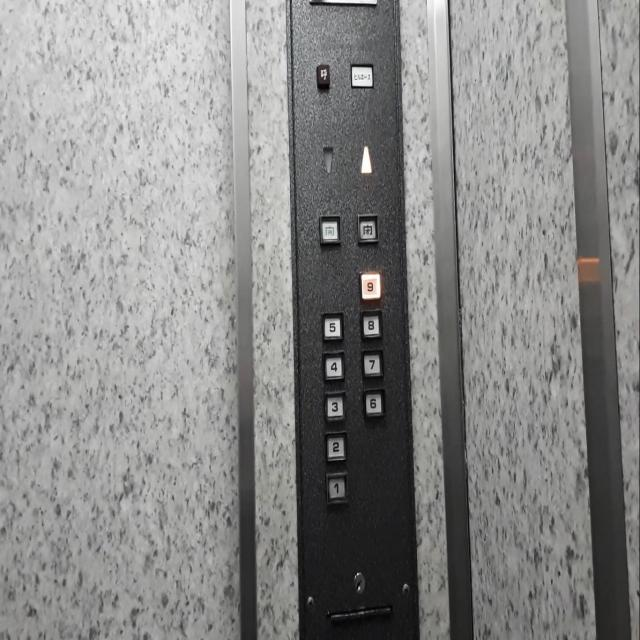1: (324, 468, 349, 508)
2: (322, 427, 348, 464)
3: (322, 385, 348, 423)
4: (321, 347, 346, 383)
5: (319, 307, 345, 343)
6: (361, 385, 386, 421)
7: (358, 344, 384, 381)
8: (358, 306, 385, 342)
9: (358, 268, 384, 304)
down: (321, 141, 335, 175)
keyhole: (350, 568, 367, 596)
text: (355, 209, 380, 247), (317, 212, 342, 248), (348, 60, 375, 90), (314, 62, 331, 92)
up: (358, 142, 373, 176)
